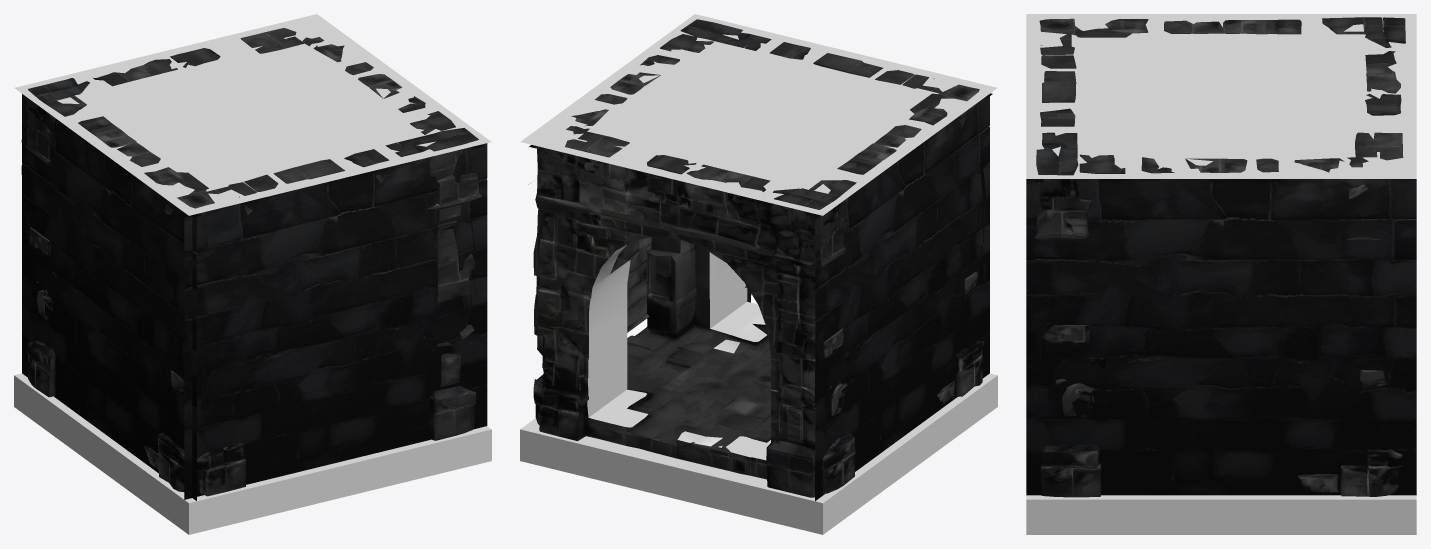
File: module_dead.glb
3 views of the same model, side by side, from view 1: azimuth 30°, elevation 25°; view 2: azimuth 150°, elevation 25°; view 3: azimuth 270°, elevation 25° (orthographic). The views are drawn at different scales.
Parts seen in each view (by area): view 1: tripo_node_8c5739aa-f84c-4d8b-8e59-f022d221bb8c; view 2: tripo_node_8c5739aa-f84c-4d8b-8e59-f022d221bb8c; view 3: tripo_node_8c5739aa-f84c-4d8b-8e59-f022d221bb8c.
Part boxes in pixels (x1,y1,x2,y2): tripo_node_8c5739aa-f84c-4d8b-8e59-f022d221bb8c: [14, 14, 491, 534]; tripo_node_8c5739aa-f84c-4d8b-8e59-f022d221bb8c: [520, 14, 997, 534]; tripo_node_8c5739aa-f84c-4d8b-8e59-f022d221bb8c: [1026, 14, 1416, 534].
Bounding box in the file's own units: 6 × 6.07 × 6.
4 materials, 2 textured.
